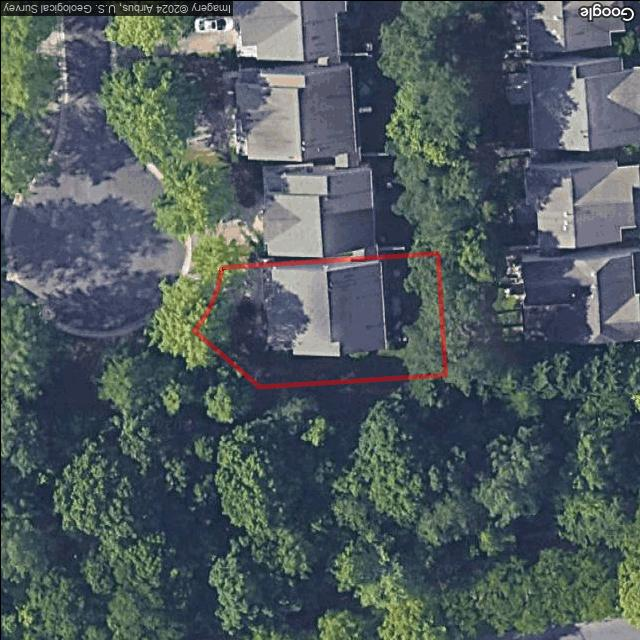Driveway: (213, 265, 273, 296)
Extra-Driveway: (177, 264, 220, 295)
Extra-Lawn: (161, 294, 214, 333)
House: (264, 259, 385, 355)
Lawn: (194, 253, 444, 386)
Other: (376, 294, 402, 354), (349, 351, 369, 358)
